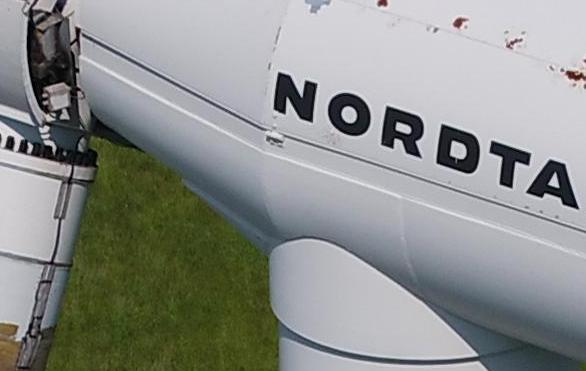damage: (550, 59, 586, 88), (504, 30, 526, 50), (452, 15, 469, 31), (377, 0, 388, 8)
